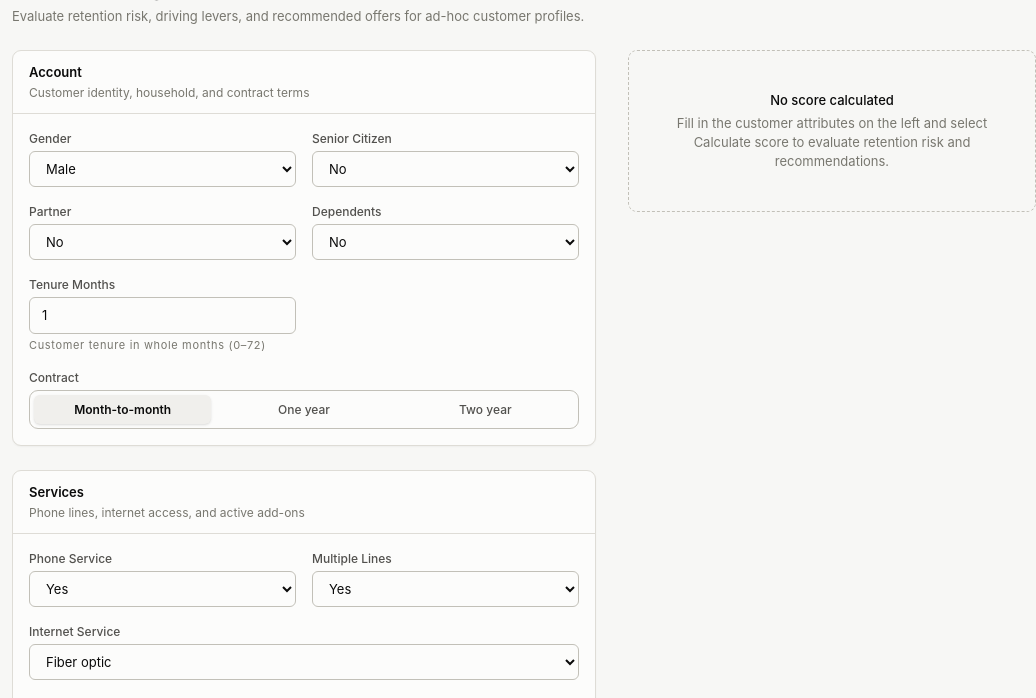
ScorePage and Manual Scoring Form › Rule C — Total Charges Auto-calculation & Manual Override › Changing Monthly Charges or Tenure Months recomputes Total Charges to their product, rounded to 2 decimals
Replace the text in the number field labelled "Tenure Months" with "12" at (162, 316), box [29,297,296,334]
(page scrolled)
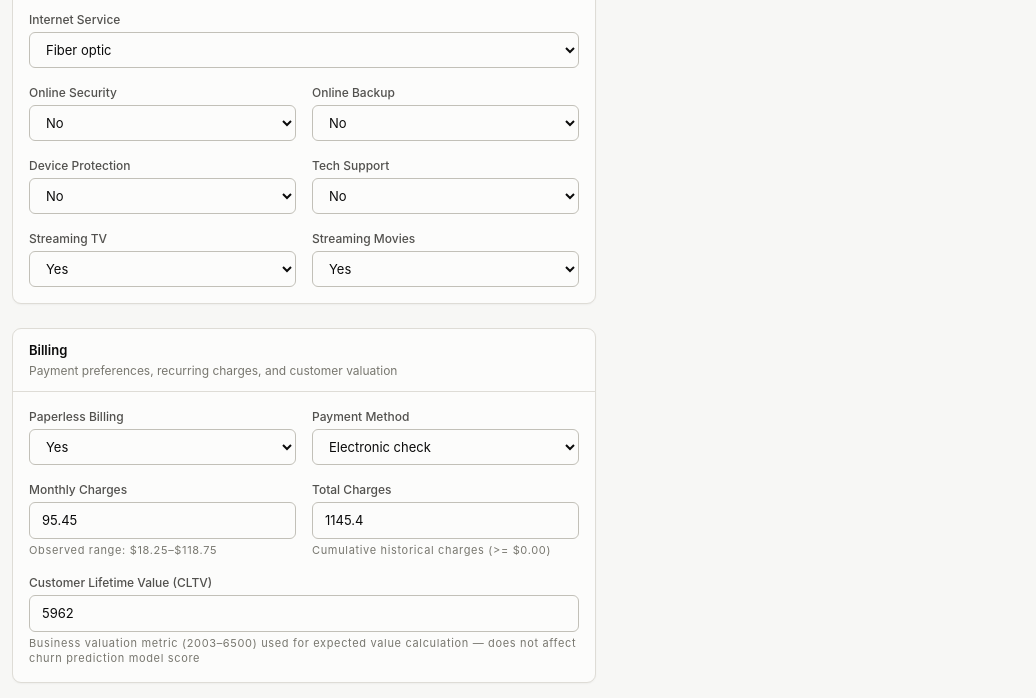
Replace the text in the number field labelled "Monthly Charges" with "75.50" at (162, 520), box [29,502,296,539]
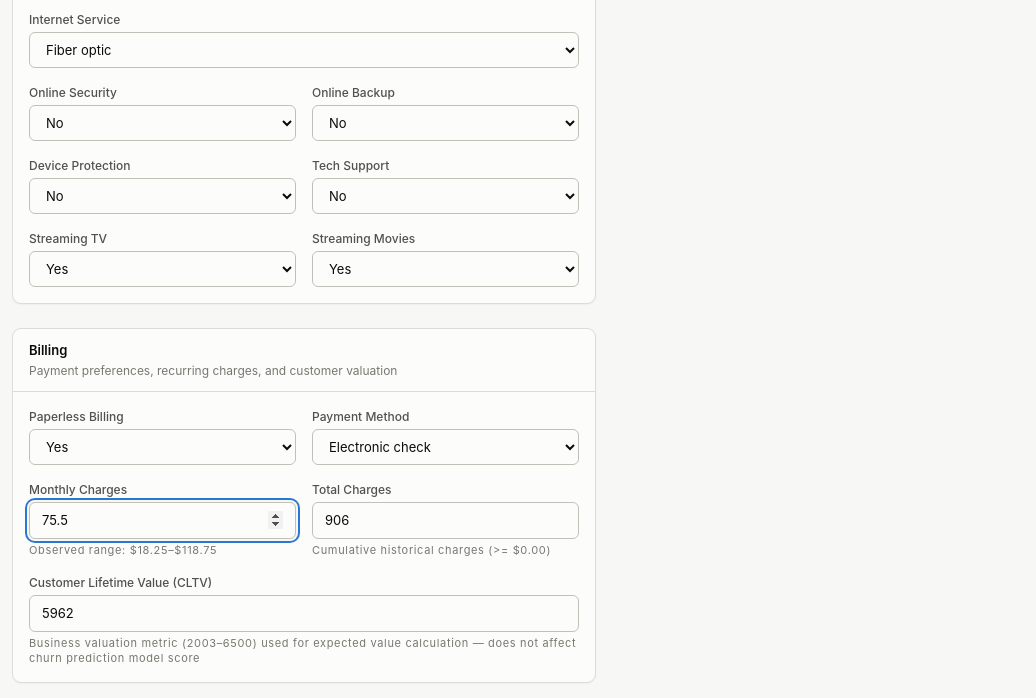
Expected: the number field labelled "Total Charges" holds "906", [312,502,579,539]
